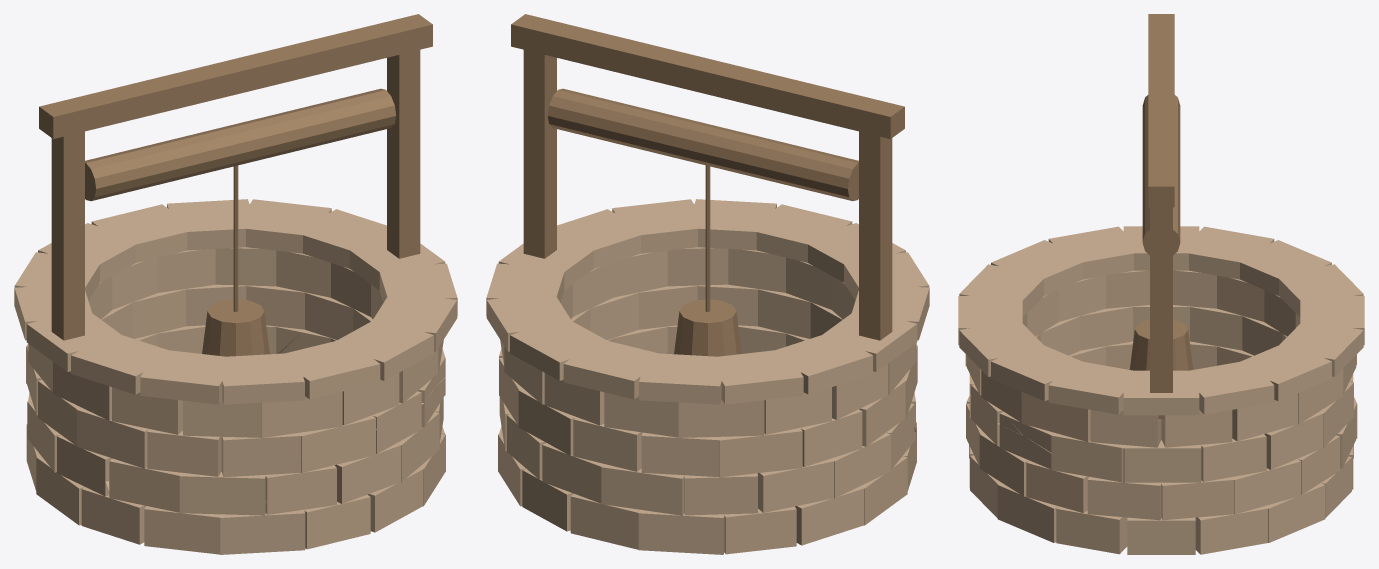
The model's file is SM_DST_Settle_Well_Frac.fbx.
3 renders of one model, left to right at view 1: azimuth 30°, elevation 25°; view 2: azimuth 150°, elevation 25°; view 3: azimuth 270°, elevation 25°, orthographic. The views are drawn at different scales.
Parts seen in each view (by area): view 1: SM_DST_Settle_Well_p06, SM_DST_Settle_Well_p04, SM_DST_Settle_Well_p05, SM_DST_Settle_Well_p09, SM_DST_Settle_Well_p00, SM_DST_Settle_Well_p02, SM_DST_Settle_Well_p07, SM_DST_Settle_Well_p03, SM_DST_Settle_Well_p08, SM_DST_Settle_Well_p01; view 2: SM_DST_Settle_Well_p05, SM_DST_Settle_Well_p02, SM_DST_Settle_Well_p04, SM_DST_Settle_Well_p07, SM_DST_Settle_Well_p00, SM_DST_Settle_Well_p06, SM_DST_Settle_Well_p08, SM_DST_Settle_Well_p03, SM_DST_Settle_Well_p09, SM_DST_Settle_Well_p01; view 3: SM_DST_Settle_Well_p04, SM_DST_Settle_Well_p00, SM_DST_Settle_Well_p06, SM_DST_Settle_Well_p01, SM_DST_Settle_Well_p05, SM_DST_Settle_Well_p09, SM_DST_Settle_Well_p08, SM_DST_Settle_Well_p02, SM_DST_Settle_Well_p07, SM_DST_Settle_Well_p03.
Boxes of the visible parts, left/top/right/bottom form: SM_DST_Settle_Well_p06: left=75, top=53, right=332, bottom=554; SM_DST_Settle_Well_p04: left=256, top=14, right=457, bottom=399; SM_DST_Settle_Well_p05: left=14, top=68, right=195, bottom=426; SM_DST_Settle_Well_p09: left=221, top=377, right=445, bottom=554; SM_DST_Settle_Well_p00: left=152, top=199, right=360, bottom=354; SM_DST_Settle_Well_p02: left=85, top=207, right=257, bottom=355; SM_DST_Settle_Well_p07: left=26, top=360, right=133, bottom=542; SM_DST_Settle_Well_p03: left=311, top=341, right=433, bottom=444; SM_DST_Settle_Well_p08: left=336, top=297, right=456, bottom=388; SM_DST_Settle_Well_p01: left=268, top=292, right=443, bottom=428; SM_DST_Settle_Well_p05: left=685, top=78, right=919, bottom=448; SM_DST_Settle_Well_p02: left=570, top=307, right=765, bottom=552; SM_DST_Settle_Well_p04: left=490, top=14, right=677, bottom=325; SM_DST_Settle_Well_p07: left=691, top=392, right=915, bottom=554; SM_DST_Settle_Well_p00: left=486, top=284, right=606, bottom=531; SM_DST_Settle_Well_p06: left=674, top=51, right=929, bottom=464; SM_DST_Settle_Well_p08: left=613, top=199, right=776, bottom=306; SM_DST_Settle_Well_p03: left=637, top=204, right=828, bottom=310; SM_DST_Settle_Well_p09: left=629, top=298, right=813, bottom=354; SM_DST_Settle_Well_p01: left=498, top=322, right=674, bottom=491; SM_DST_Settle_Well_p04: left=1044, top=112, right=1246, bottom=489; SM_DST_Settle_Well_p00: left=1218, top=323, right=1364, bottom=528; SM_DST_Settle_Well_p06: left=958, top=53, right=1180, bottom=370; SM_DST_Settle_Well_p01: left=1061, top=363, right=1301, bottom=554; SM_DST_Settle_Well_p05: left=1114, top=14, right=1346, bottom=328; SM_DST_Settle_Well_p09: left=966, top=395, right=1069, bottom=543; SM_DST_Settle_Well_p08: left=959, top=324, right=1082, bottom=453; SM_DST_Settle_Well_p02: left=1173, top=277, right=1364, bottom=489; SM_DST_Settle_Well_p07: left=1107, top=320, right=1253, bottom=369; SM_DST_Settle_Well_p03: left=958, top=306, right=1022, bottom=434.
Bounding box in the file's own units: 2.15 × 2.17 × 2.14.
